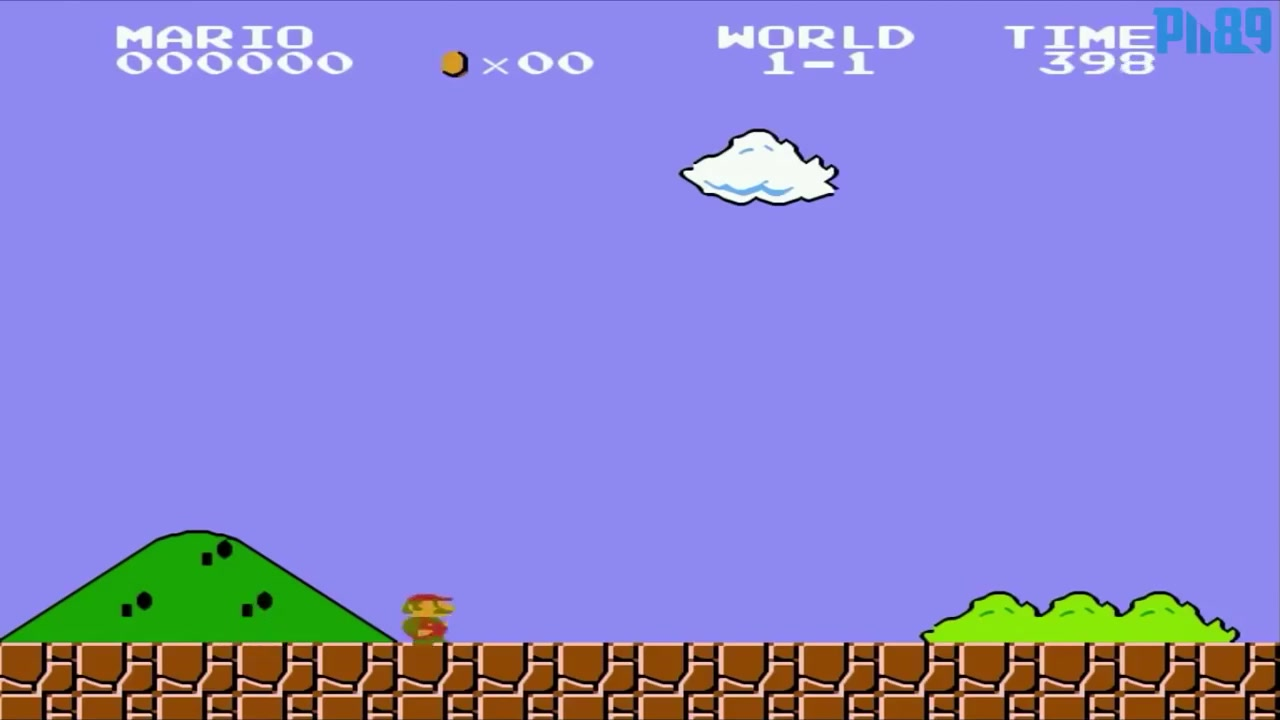mario: (387, 586, 473, 647)
